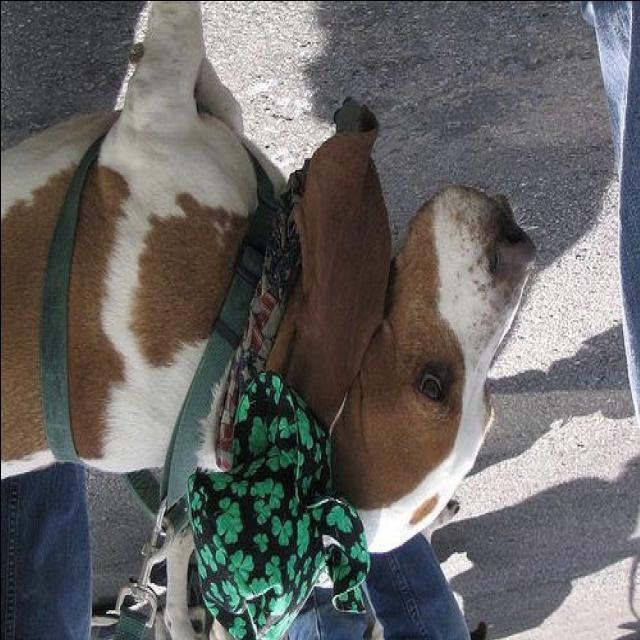basset: (0, 2, 536, 554)
